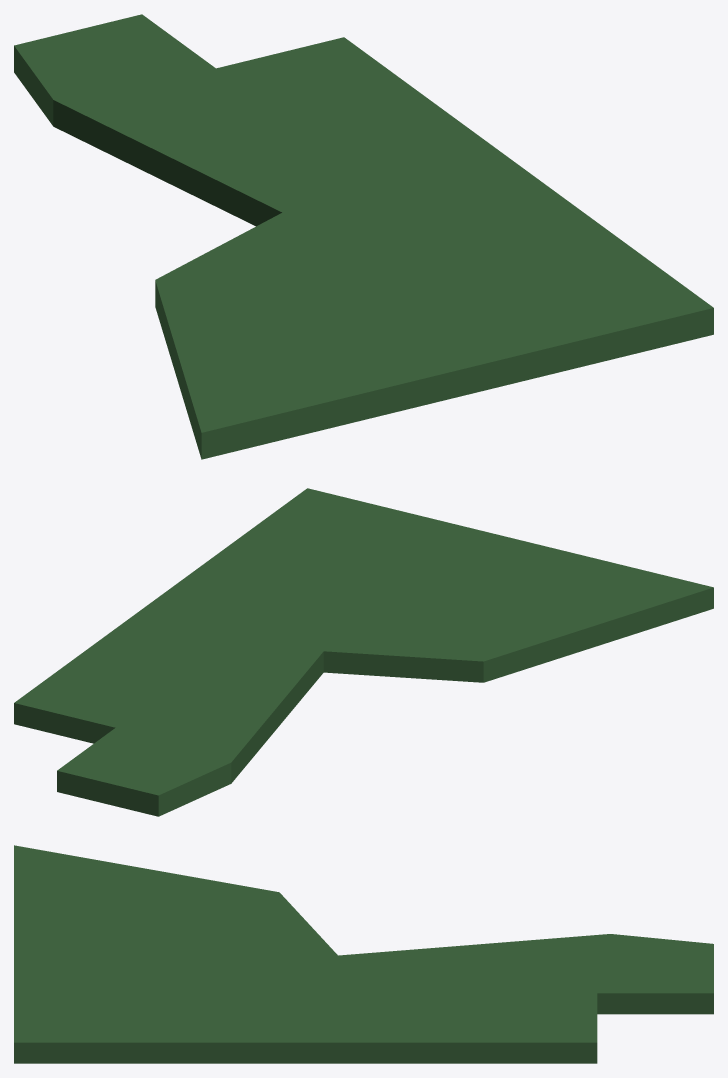
File: x_proval_00_51_1_rmstrd_mirror.fbx
3 views of the same model, one above another, from view 1: azimuth 30°, elevation 25°; view 2: azimuth 150°, elevation 25°; view 3: azimuth 270°, elevation 25° (orthographic). The views are drawn at different scales.
Parts seen in each view (by area): view 1: x_proval_00_51_1_rmstrd_mirror1; view 2: x_proval_00_51_1_rmstrd_mirror1; view 3: x_proval_00_51_1_rmstrd_mirror1.
Boxes of the visible parts, x1,y1,x2,y2 form: x_proval_00_51_1_rmstrd_mirror1: (14,14,713,459); x_proval_00_51_1_rmstrd_mirror1: (14,488,713,816); x_proval_00_51_1_rmstrd_mirror1: (14,845,713,1063).
Bounding box in the file's own units: 4 × 0.2 × 6.
